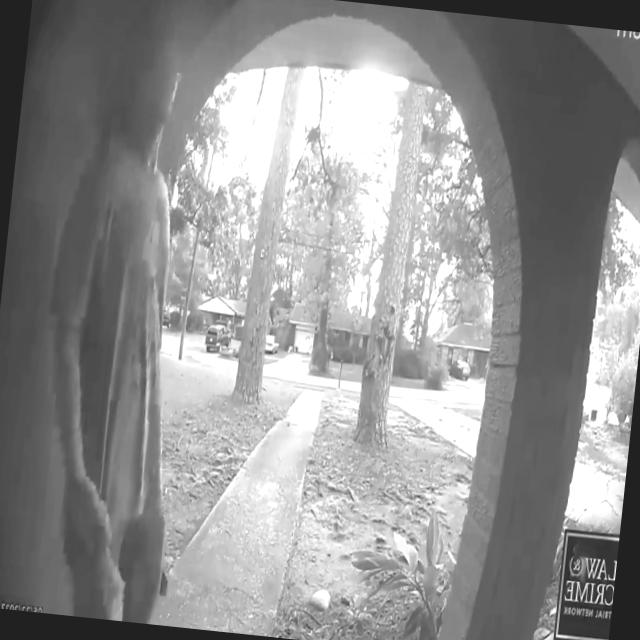weapon: (31, 0, 250, 627)
